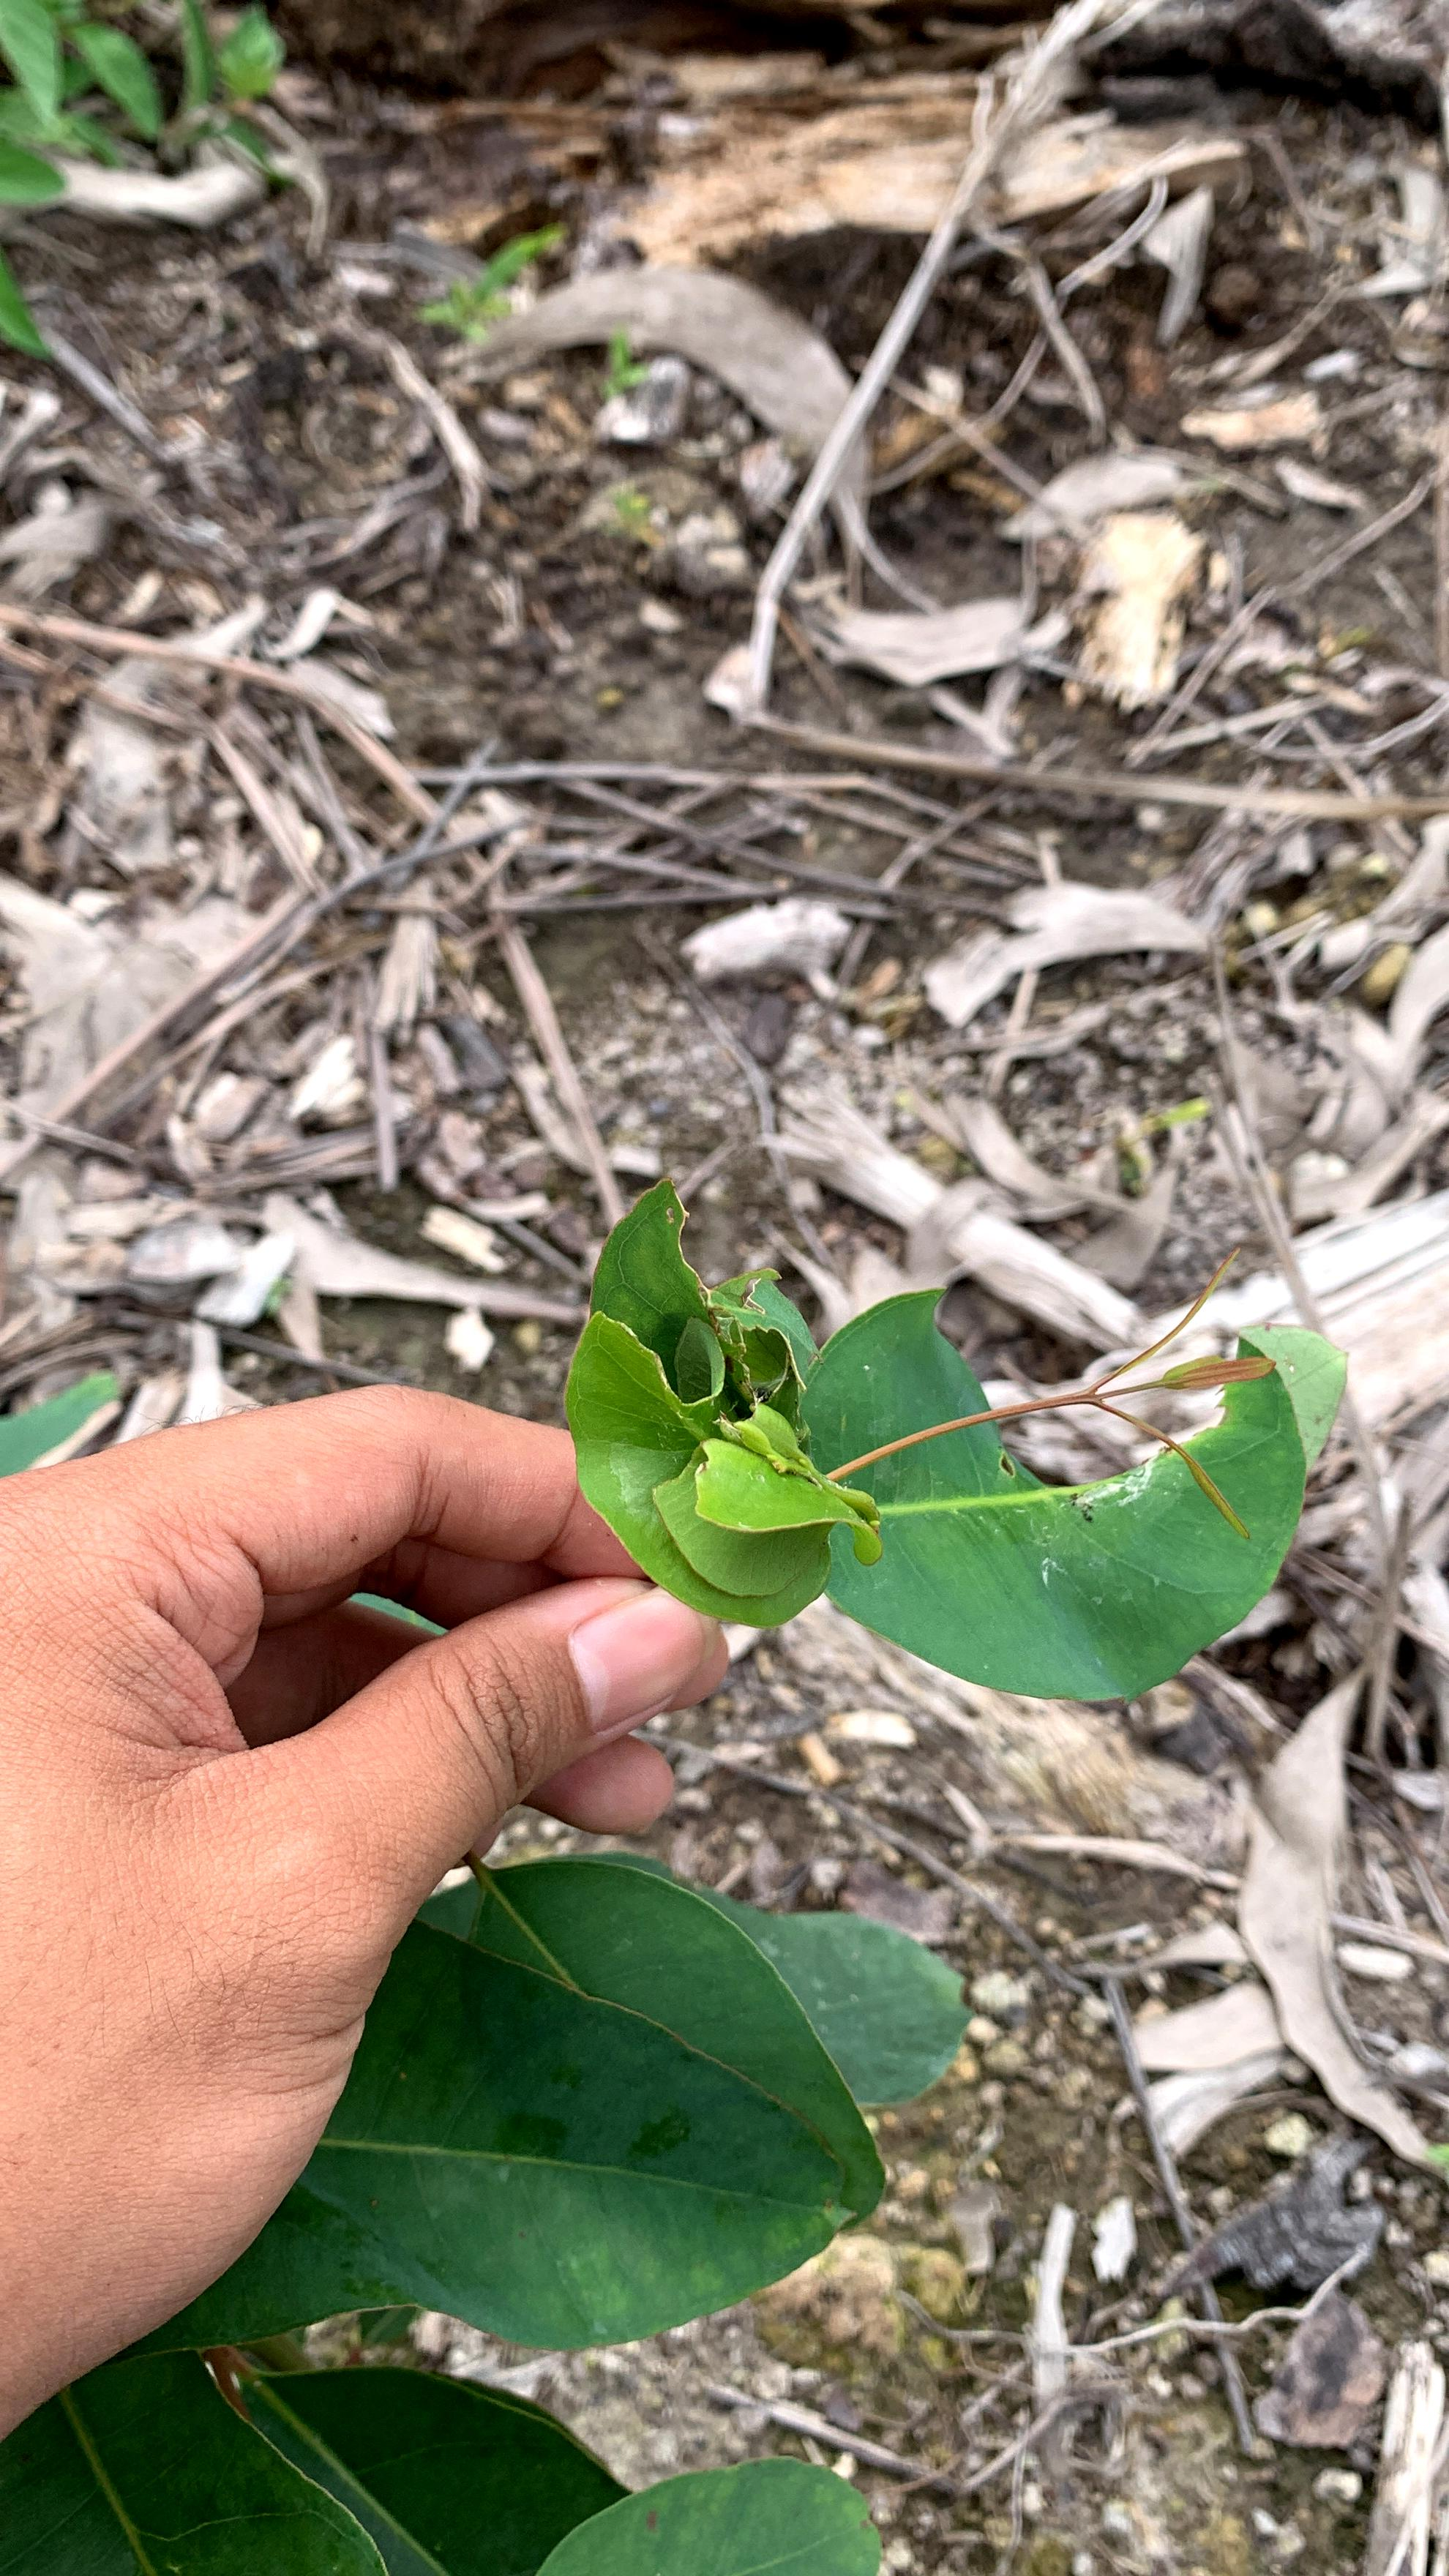Leaf Roller - Leaf: (506, 1253, 980, 1764)
